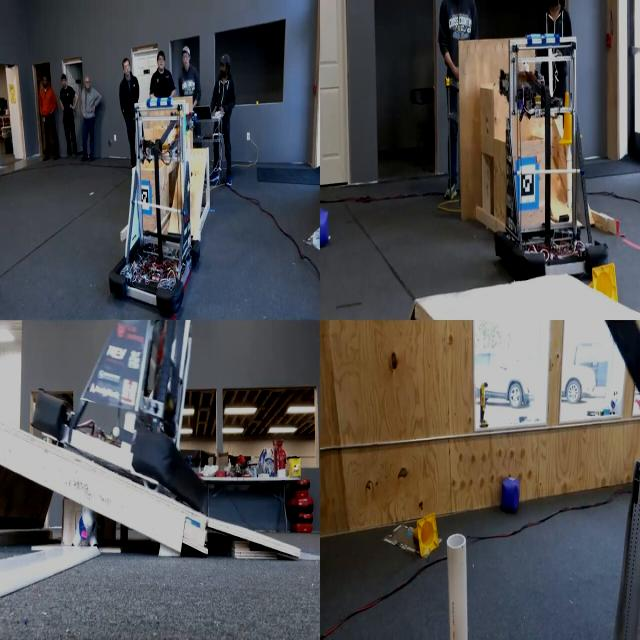frc_cone: (413, 512, 440, 560), (591, 260, 619, 306), (561, 83, 573, 149)
frc_cube: (498, 472, 526, 516), (314, 207, 330, 251)
